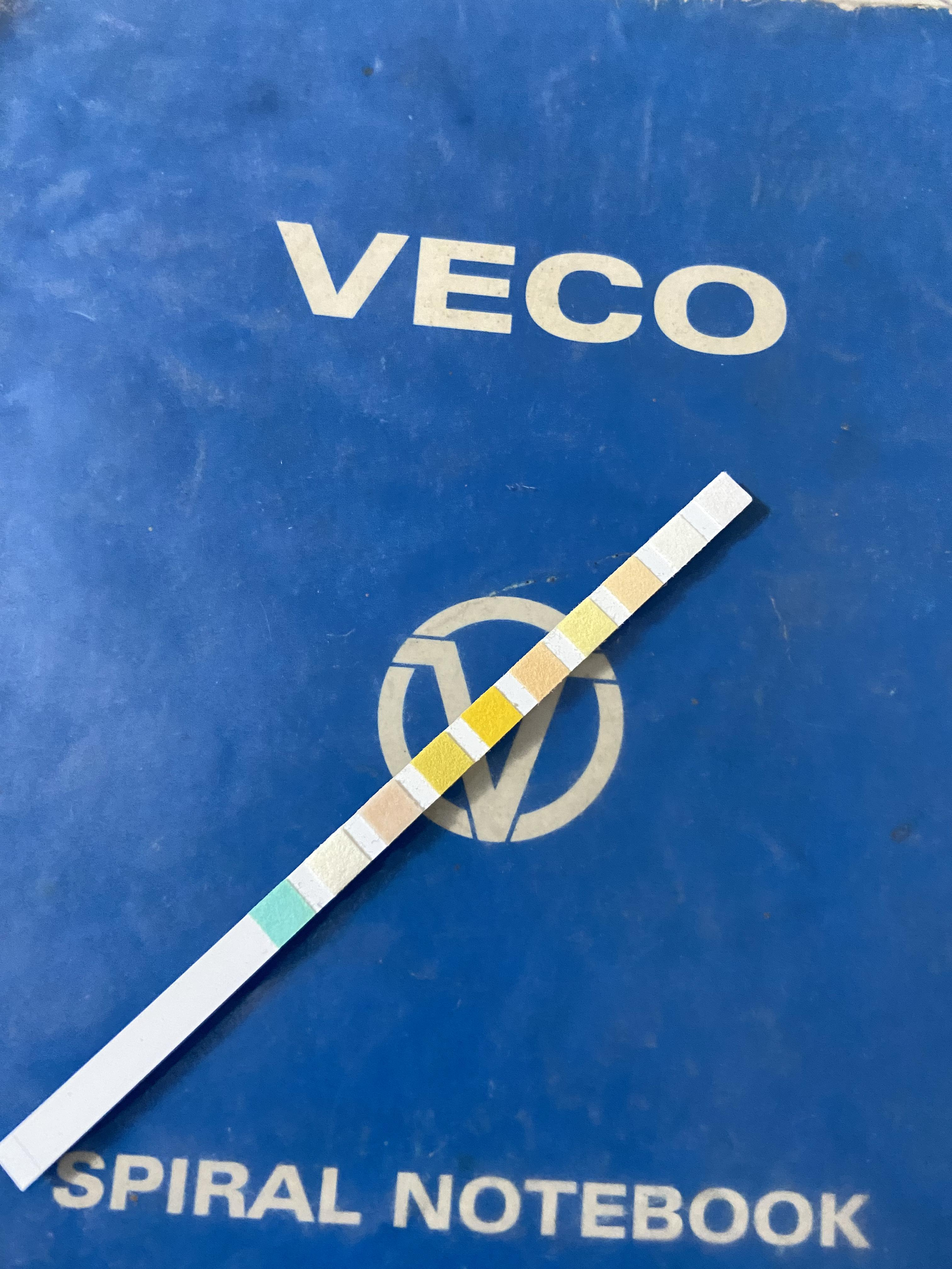Bilirubin: (316, 848, 360, 873)
Blood: (475, 700, 508, 733)
Glucose: (264, 898, 301, 929)
Ketone: (372, 796, 409, 825)
Leukocytes: (706, 486, 740, 512)
Nitrite: (664, 525, 693, 558)
Protein: (571, 611, 603, 641)
SpGravity: (425, 748, 460, 777)
Urobilinogen: (614, 572, 652, 597)
pH: (525, 655, 555, 688)
strip: (0, 471, 755, 1191)
